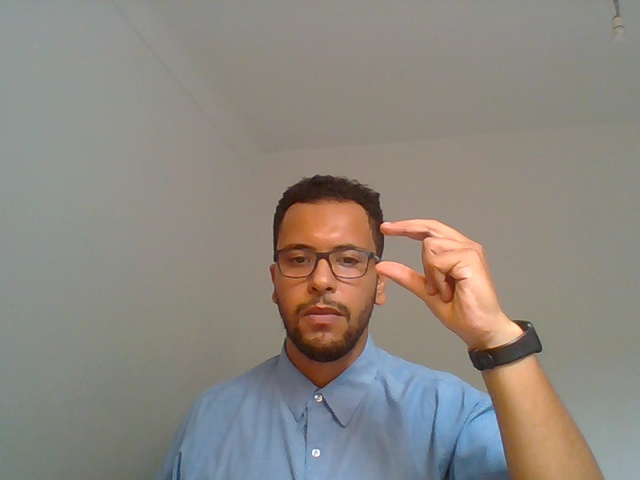no: (375, 194, 547, 414)
